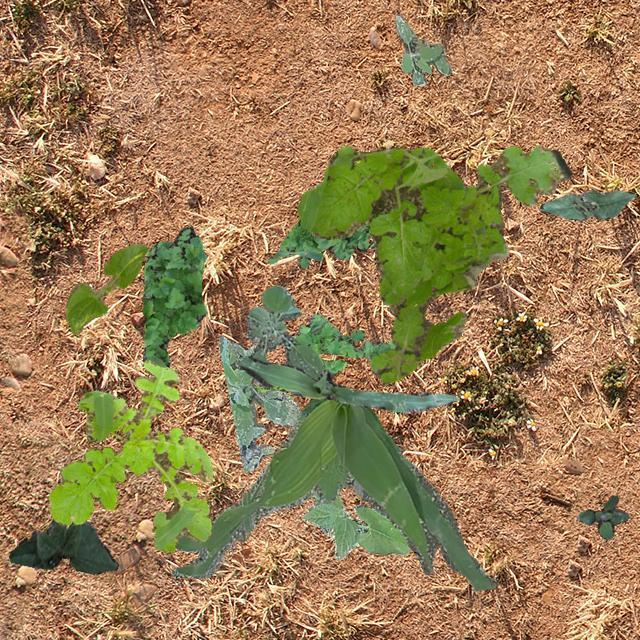crop: (238, 356, 458, 412), (64, 242, 146, 334), (301, 490, 408, 560), (8, 518, 118, 574), (538, 188, 634, 218)
weed: (296, 144, 570, 386), (170, 396, 498, 590), (48, 359, 212, 552), (218, 334, 300, 470), (142, 226, 206, 366), (246, 284, 322, 386), (292, 312, 394, 374), (268, 218, 376, 268), (394, 12, 451, 84), (576, 494, 628, 538), (254, 386, 294, 400)
